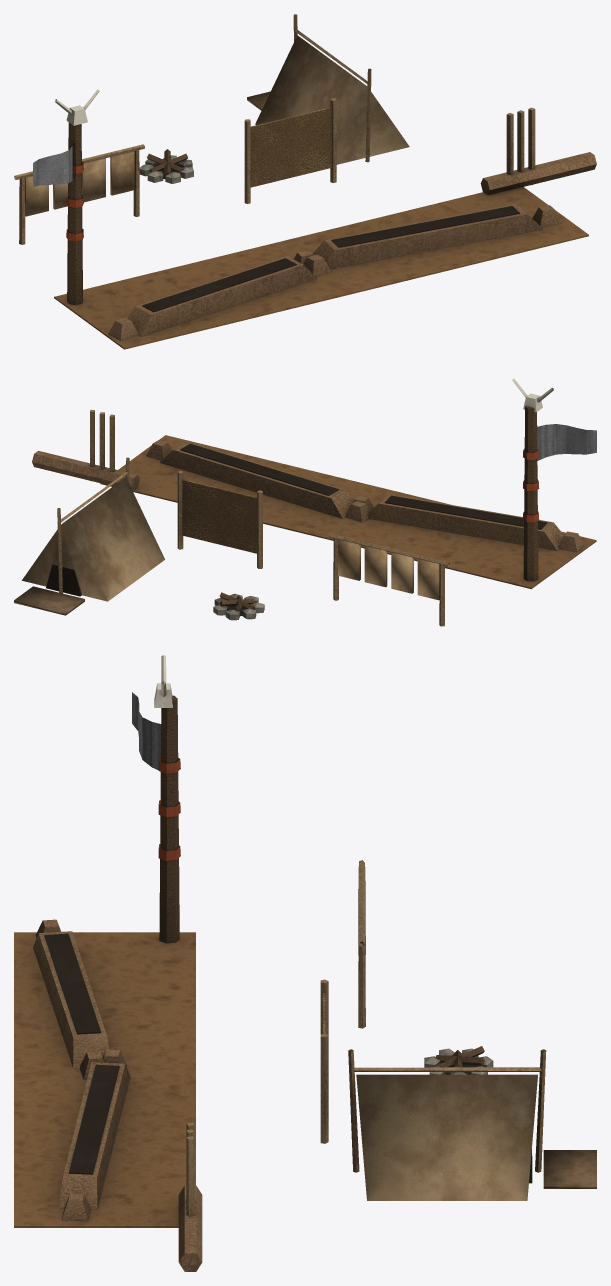
The model's file is canoe_landing.glb.
3 renders of one model, top to bottom at view 1: azimuth 30°, elevation 25°; view 2: azimuth 150°, elevation 25°; view 3: azimuth 270°, elevation 25°, orthographic. The views are drawn at different scales.
Parts seen in each view (by area): view 1: LOD0; view 2: LOD0; view 3: LOD0.
Part boxes in pixels (left/top/right/bottom): LOD0: left=14, top=14, right=596, bottom=349; LOD0: left=14, top=378, right=596, bottom=626; LOD0: left=14, top=655, right=596, bottom=1271.
Size of what is drawn, in the model's own units: 1.63 by 0.5724 by 1.09.
2 materials, 2 textured.
